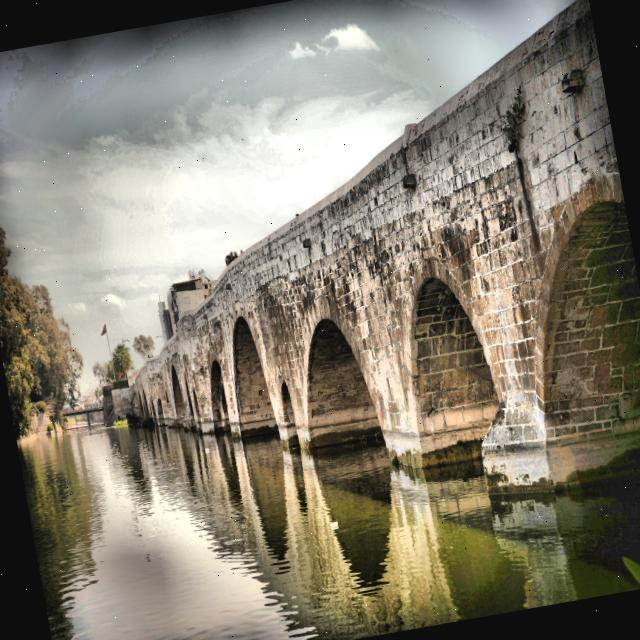stone bridge: (35, 0, 640, 567)
